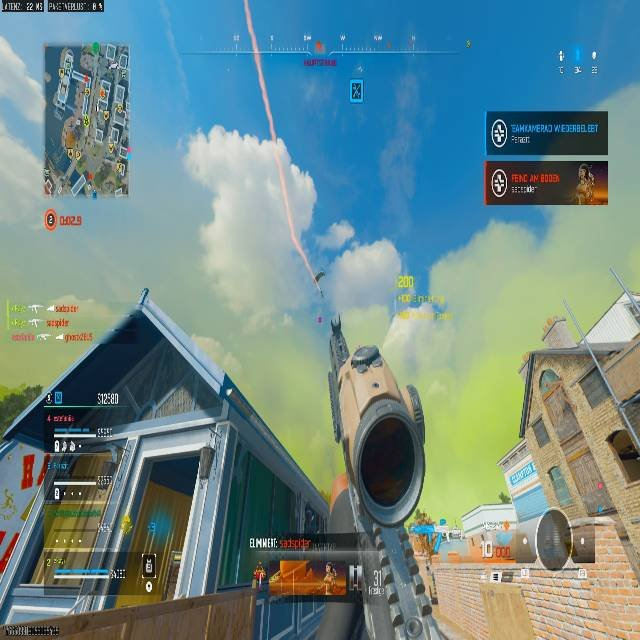head: (256, 560, 262, 567)
player: (253, 562, 265, 589), (324, 562, 336, 587), (497, 490, 507, 503)
